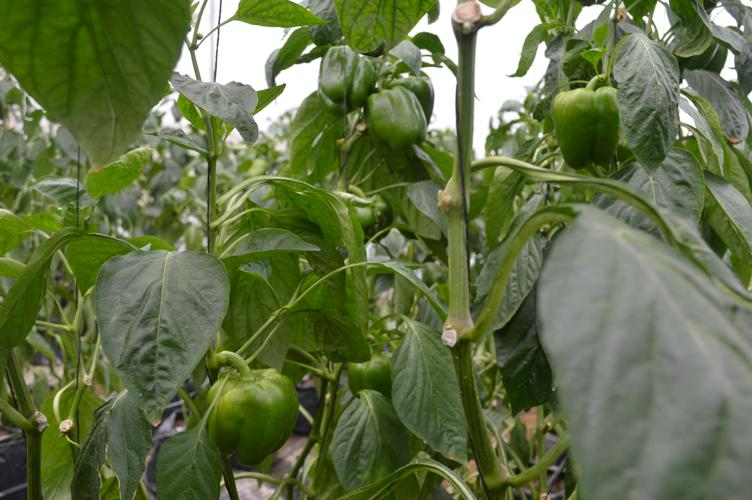BellPepper: (206, 369, 304, 462), (545, 87, 619, 168), (310, 49, 370, 113), (370, 94, 426, 142), (398, 66, 435, 117), (348, 351, 391, 394)
